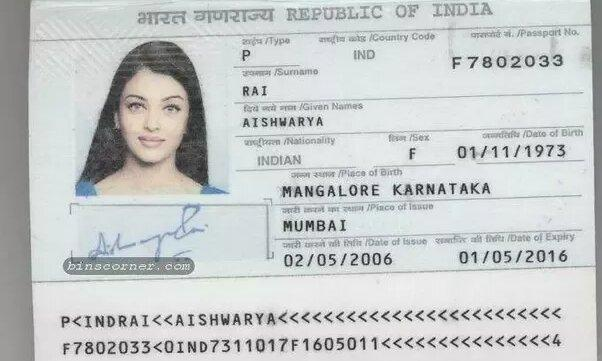DOB: (452, 142, 573, 166)
Surname: (231, 77, 289, 99)
country_code: (346, 34, 396, 66)
date_of_expiry: (454, 245, 587, 269)
date_of_issue: (279, 248, 405, 275)
details: (38, 290, 597, 358)
name: (238, 107, 352, 132)
nationality: (244, 146, 328, 171)
passport_no: (437, 41, 573, 78)
photo: (74, 29, 227, 200)
place_of_birth: (248, 178, 520, 203)
place_of_issue: (272, 214, 399, 239)
sex: (388, 141, 433, 165)
sign: (67, 204, 257, 275)
type: (233, 38, 297, 63)
